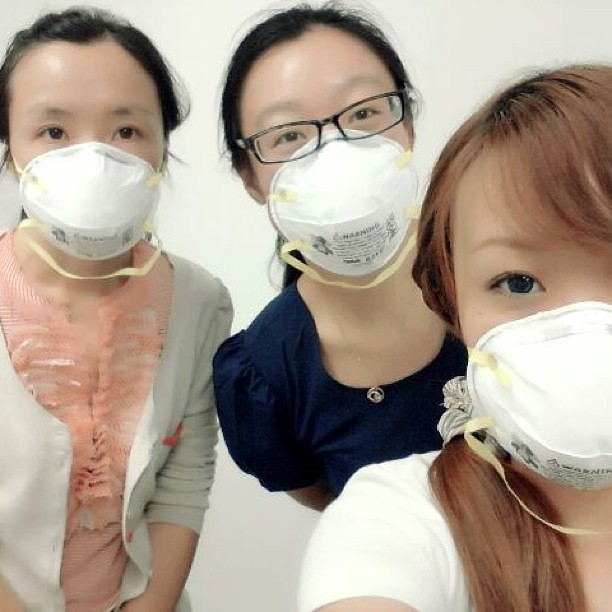n95: (454, 294, 612, 497), (258, 123, 422, 279), (10, 143, 174, 263)
